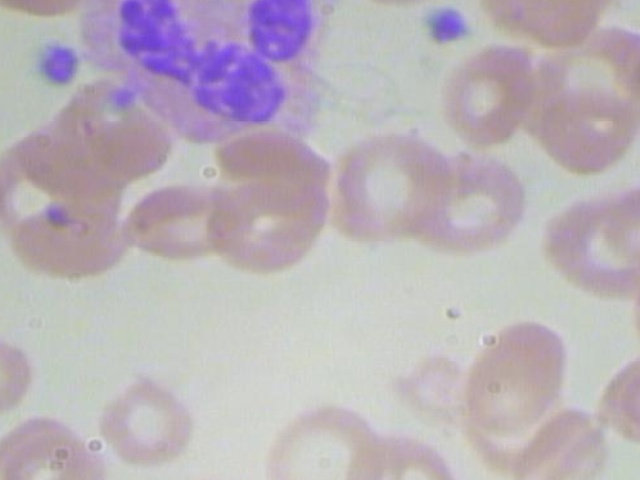Platelets: (405, 4, 481, 53), (31, 31, 87, 93)
RBC: (324, 127, 464, 244), (398, 148, 536, 257), (457, 315, 567, 433), (121, 173, 254, 264), (5, 195, 138, 286), (88, 371, 207, 467), (439, 37, 543, 145), (259, 397, 387, 480), (374, 428, 459, 480), (0, 326, 44, 419), (627, 249, 640, 358)
WBC: (69, 0, 337, 146)
